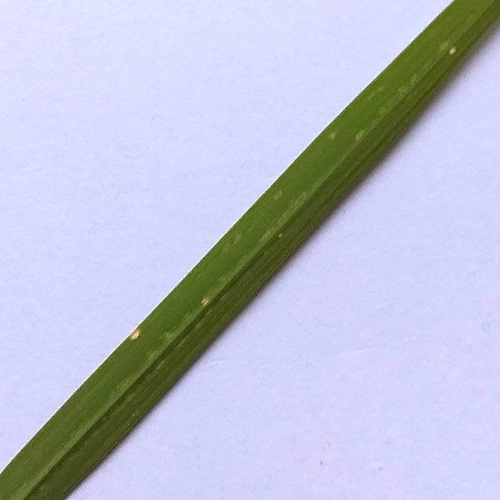Busuk Leher: (122, 317, 151, 347), (444, 34, 469, 65), (198, 292, 216, 312)
